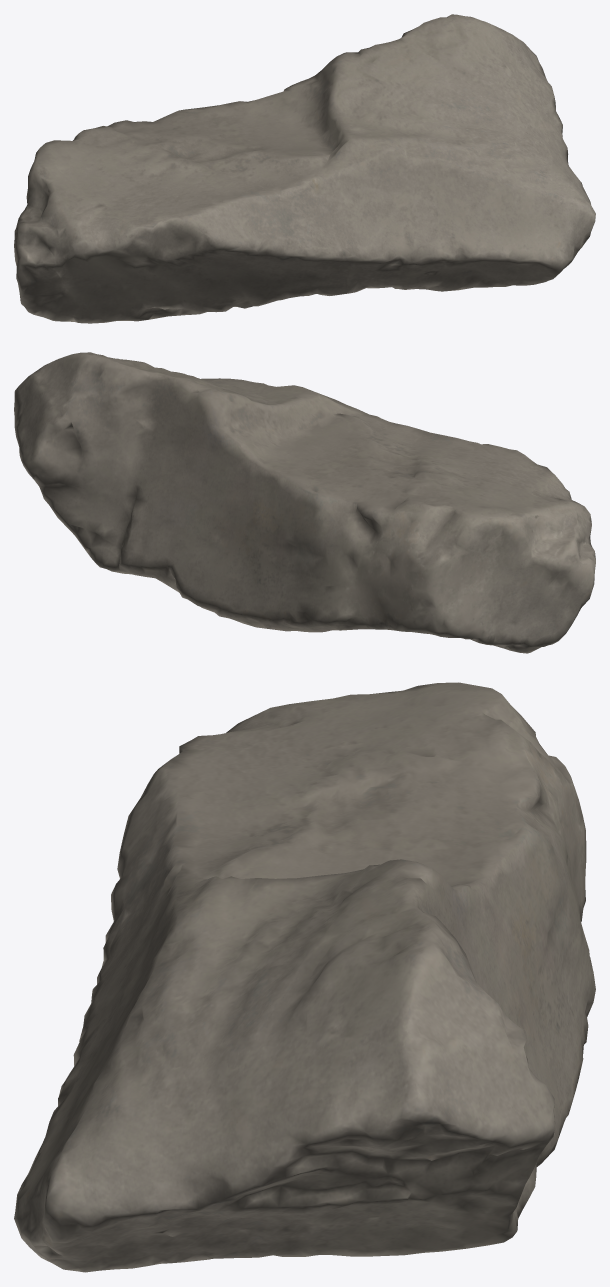
The model's file is moon_rock_01_4k.gltf.
The picture shows the model from 3 angles, top to bottom: view 1: azimuth 30°, elevation 25°; view 2: azimuth 150°, elevation 25°; view 3: azimuth 270°, elevation 25°; orthographic projection. The views are drawn at different scales.
Parts seen in each view (by area): view 1: moon_rock_01_LOD0; view 2: moon_rock_01_LOD0; view 3: moon_rock_01_LOD0.
Part boxes in pixels (x1,y1,x2,y2): moon_rock_01_LOD0: (14,14,595,323); moon_rock_01_LOD0: (14,352,595,653); moon_rock_01_LOD0: (14,682,595,1272).
Size of what is drawn, in the model's own units: 0.2121 by 0.0751 by 0.1116.
Materials: 1 (1 with a texture image).
